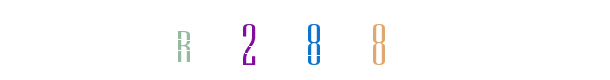2: (253, 0, 333, 80)
8: (265, 0, 345, 80), (274, 0, 354, 80)
R: (209, 0, 289, 80)
